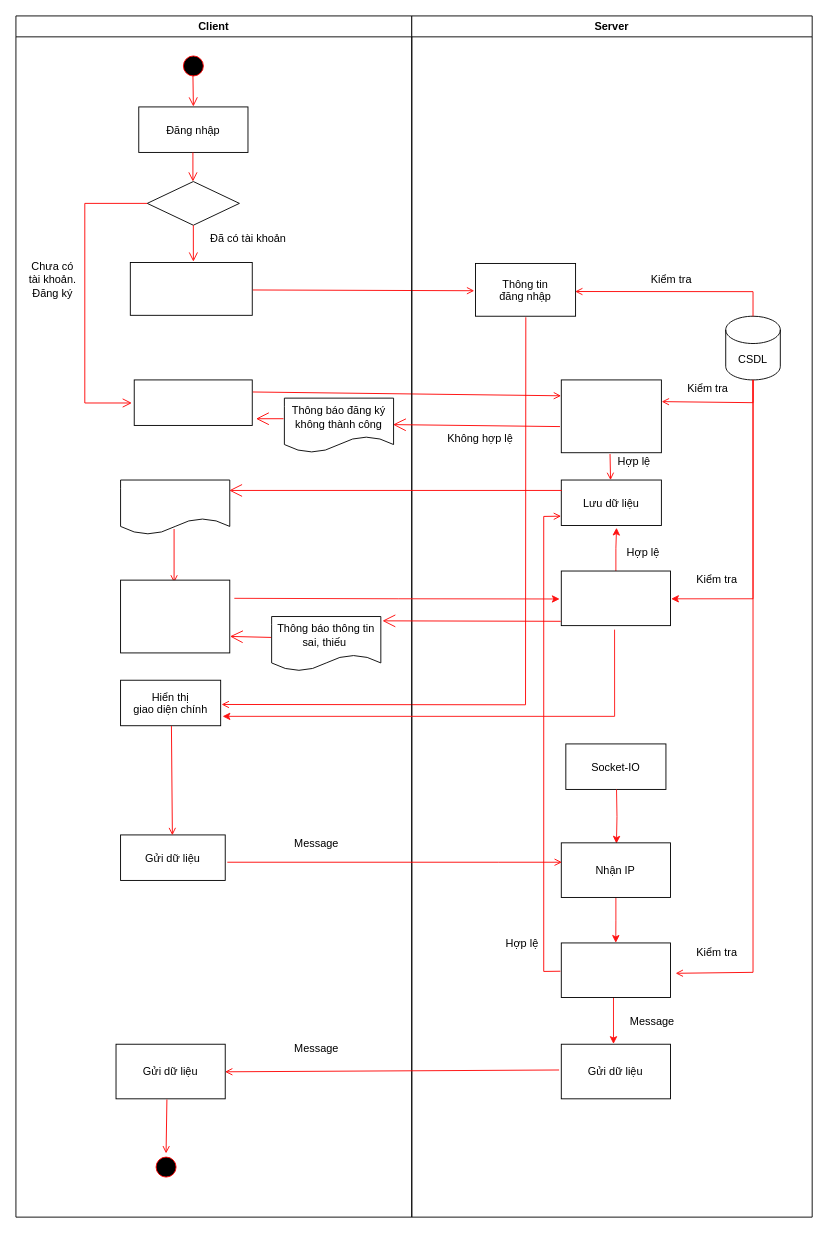
Image size: 828x1233. Some labels were removed from this diagram. Each missing label, with the centre of its shape:
"Nhập thông tin cá nhân" goes at point 175,616.
"Nhập thông tin đăng ký tài khoản" goes at point 192,402.
"Thông báo đăng ký thành công" goes at point 175,507.
"Thông tin cá nhân" goes at point 615,598.
"Thông tin đăng ký" goes at point 610,416.
"Username và Password" goes at point 190,288.
"Xử ly dữ liệu" goes at point 615,970.
